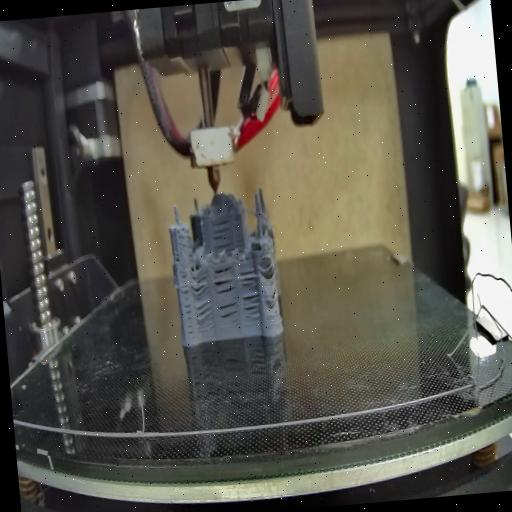cracks: (239, 264, 262, 327), (180, 273, 195, 339), (210, 218, 235, 253), (212, 268, 237, 296), (218, 300, 242, 326), (192, 299, 213, 325), (190, 272, 210, 296), (262, 263, 279, 283), (268, 284, 282, 308), (176, 252, 181, 262)
